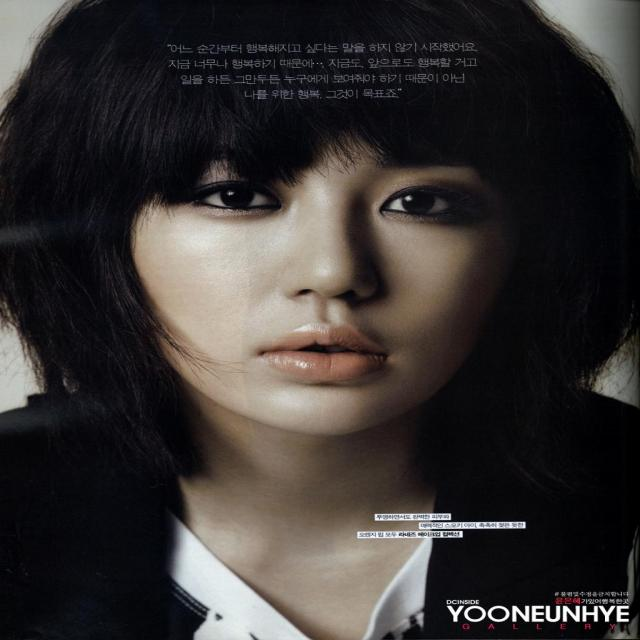nomask: (76, 16, 544, 440)
